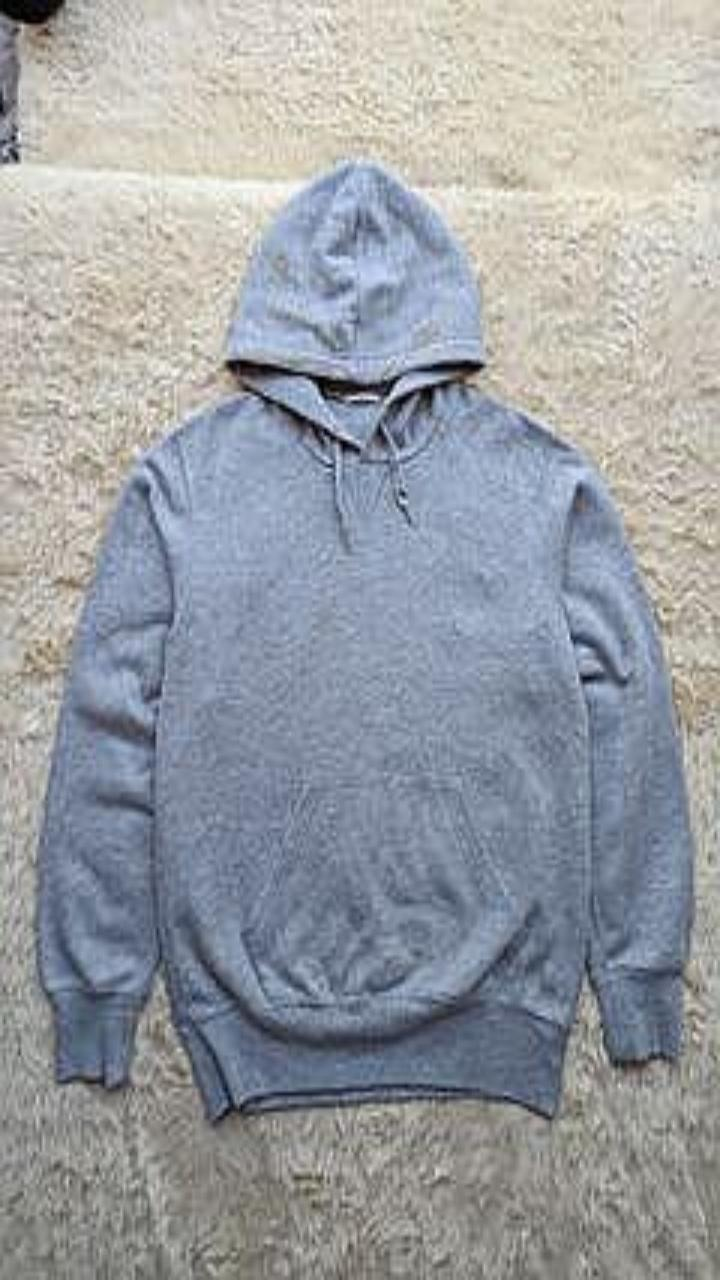Hoodie: (37, 158, 693, 1120)
